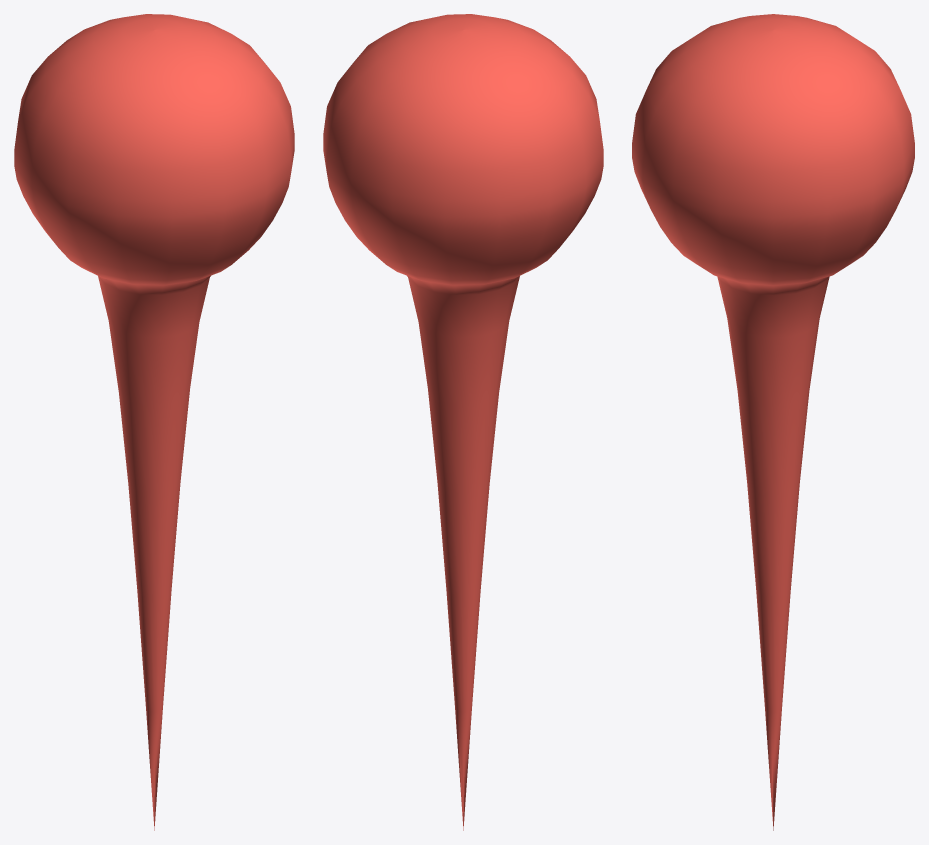
File: thumbtack_orange.obj
3 views of the same model, side by side, from view 1: azimuth 30°, elevation 25°; view 2: azimuth 150°, elevation 25°; view 3: azimuth 270°, elevation 25° (orthographic).
Visible parts, largest first — view 1: Line004; view 2: Line004; view 3: Line004.
Boxes of the visible parts, x1,y1,x2,y2 form: Line004: [14, 14, 294, 830]; Line004: [323, 14, 603, 830]; Line004: [632, 14, 914, 830].
Bounding box in the file's own units: 80 × 250 × 80.
